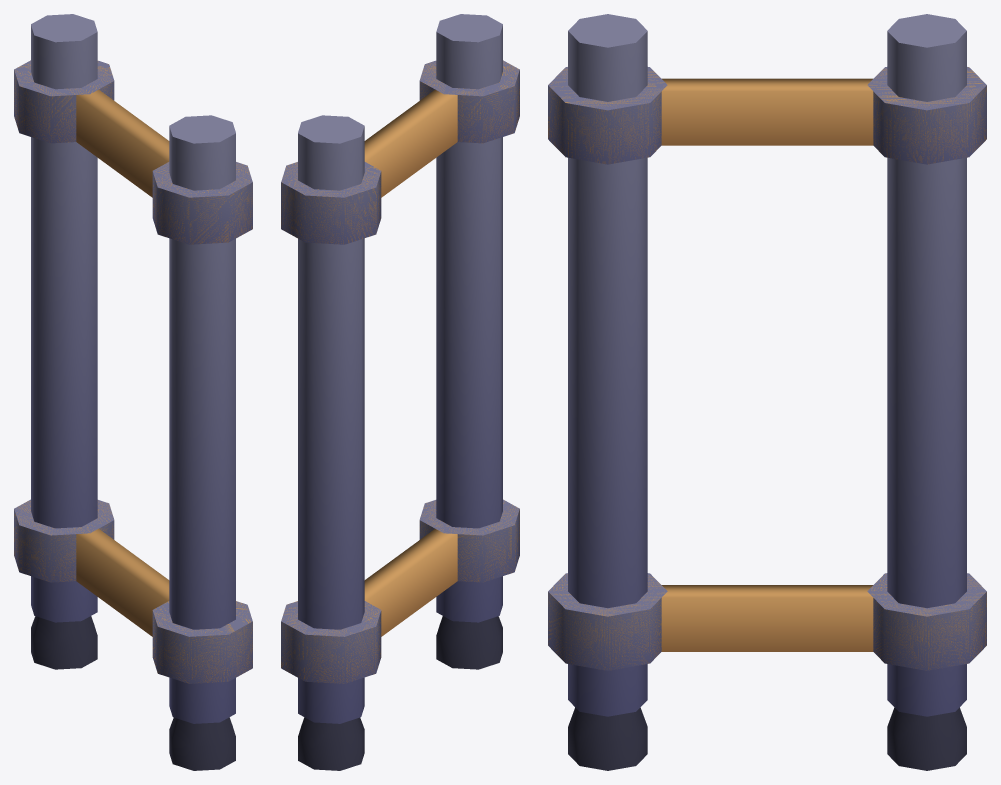
The model's file is structure-yellow-tall.glb.
The picture shows the model from 3 angles, left to right: view 1: azimuth 30°, elevation 25°; view 2: azimuth 150°, elevation 25°; view 3: azimuth 270°, elevation 25°; orthographic projection. The views are drawn at different scales.
Visible parts, largest first — view 1: structure-yellow-tall; view 2: structure-yellow-tall; view 3: structure-yellow-tall.
Boxes of the visible parts, left/top/right/bottom form: structure-yellow-tall: left=14, top=14, right=252, bottom=770; structure-yellow-tall: left=281, top=14, right=519, bottom=770; structure-yellow-tall: left=548, top=14, right=986, bottom=770.
Bounding box in the file's own units: 0.3 × 2 × 1.1.
